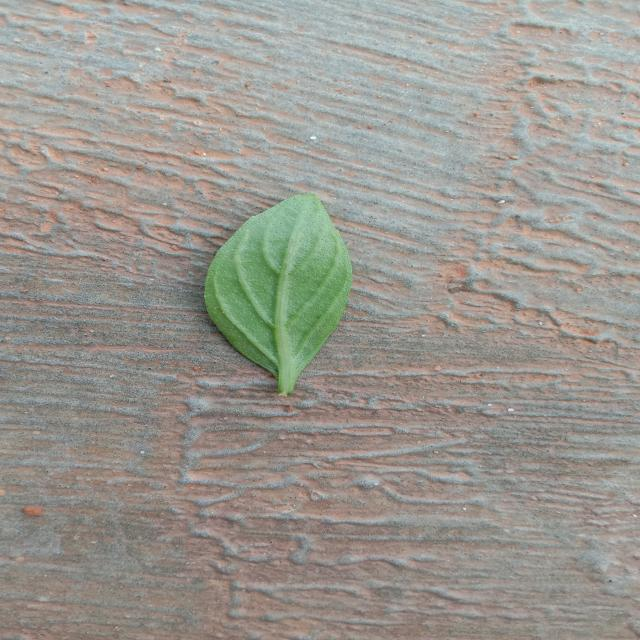kamakasturi: (206, 194, 352, 395)
